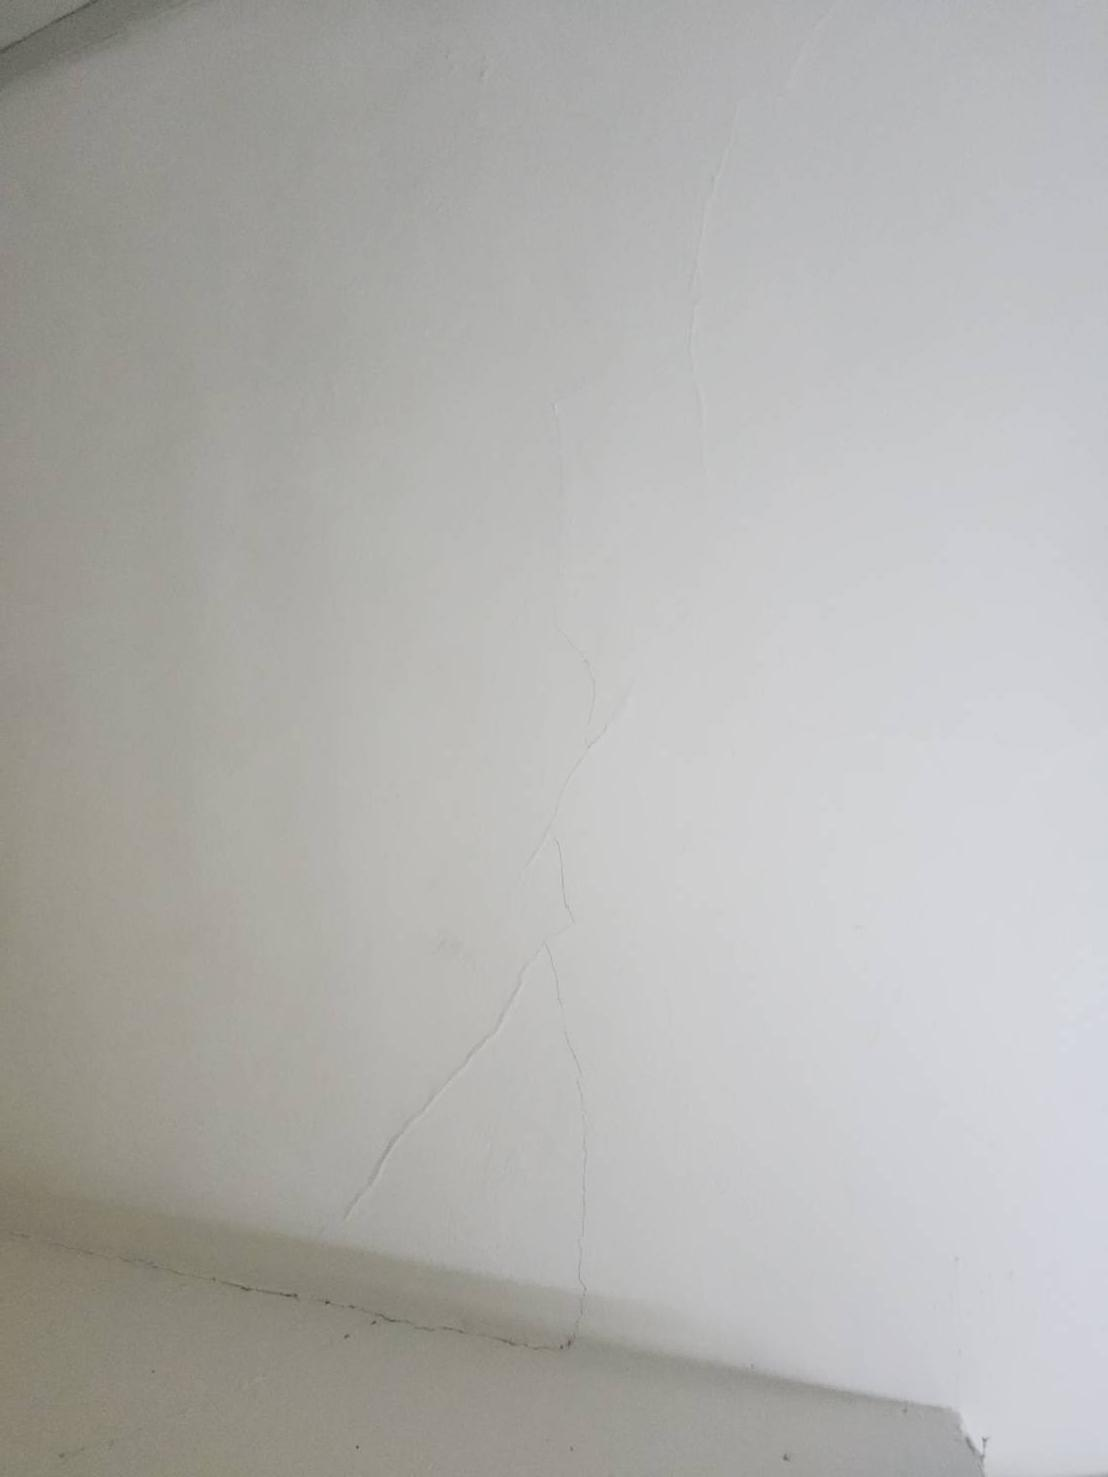Low: (59, 1, 895, 1321)
